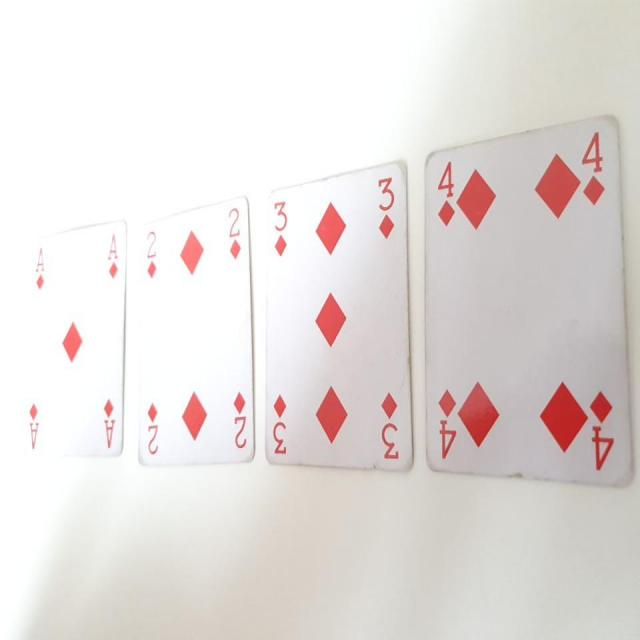2 Diamonds: (141, 194, 258, 466)
3 Diamonds: (258, 160, 414, 475)
4 Diamonds: (419, 114, 635, 487)
A Diamonds: (25, 210, 129, 461)
